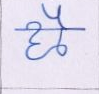ai_matra: (41, 3, 69, 27)
